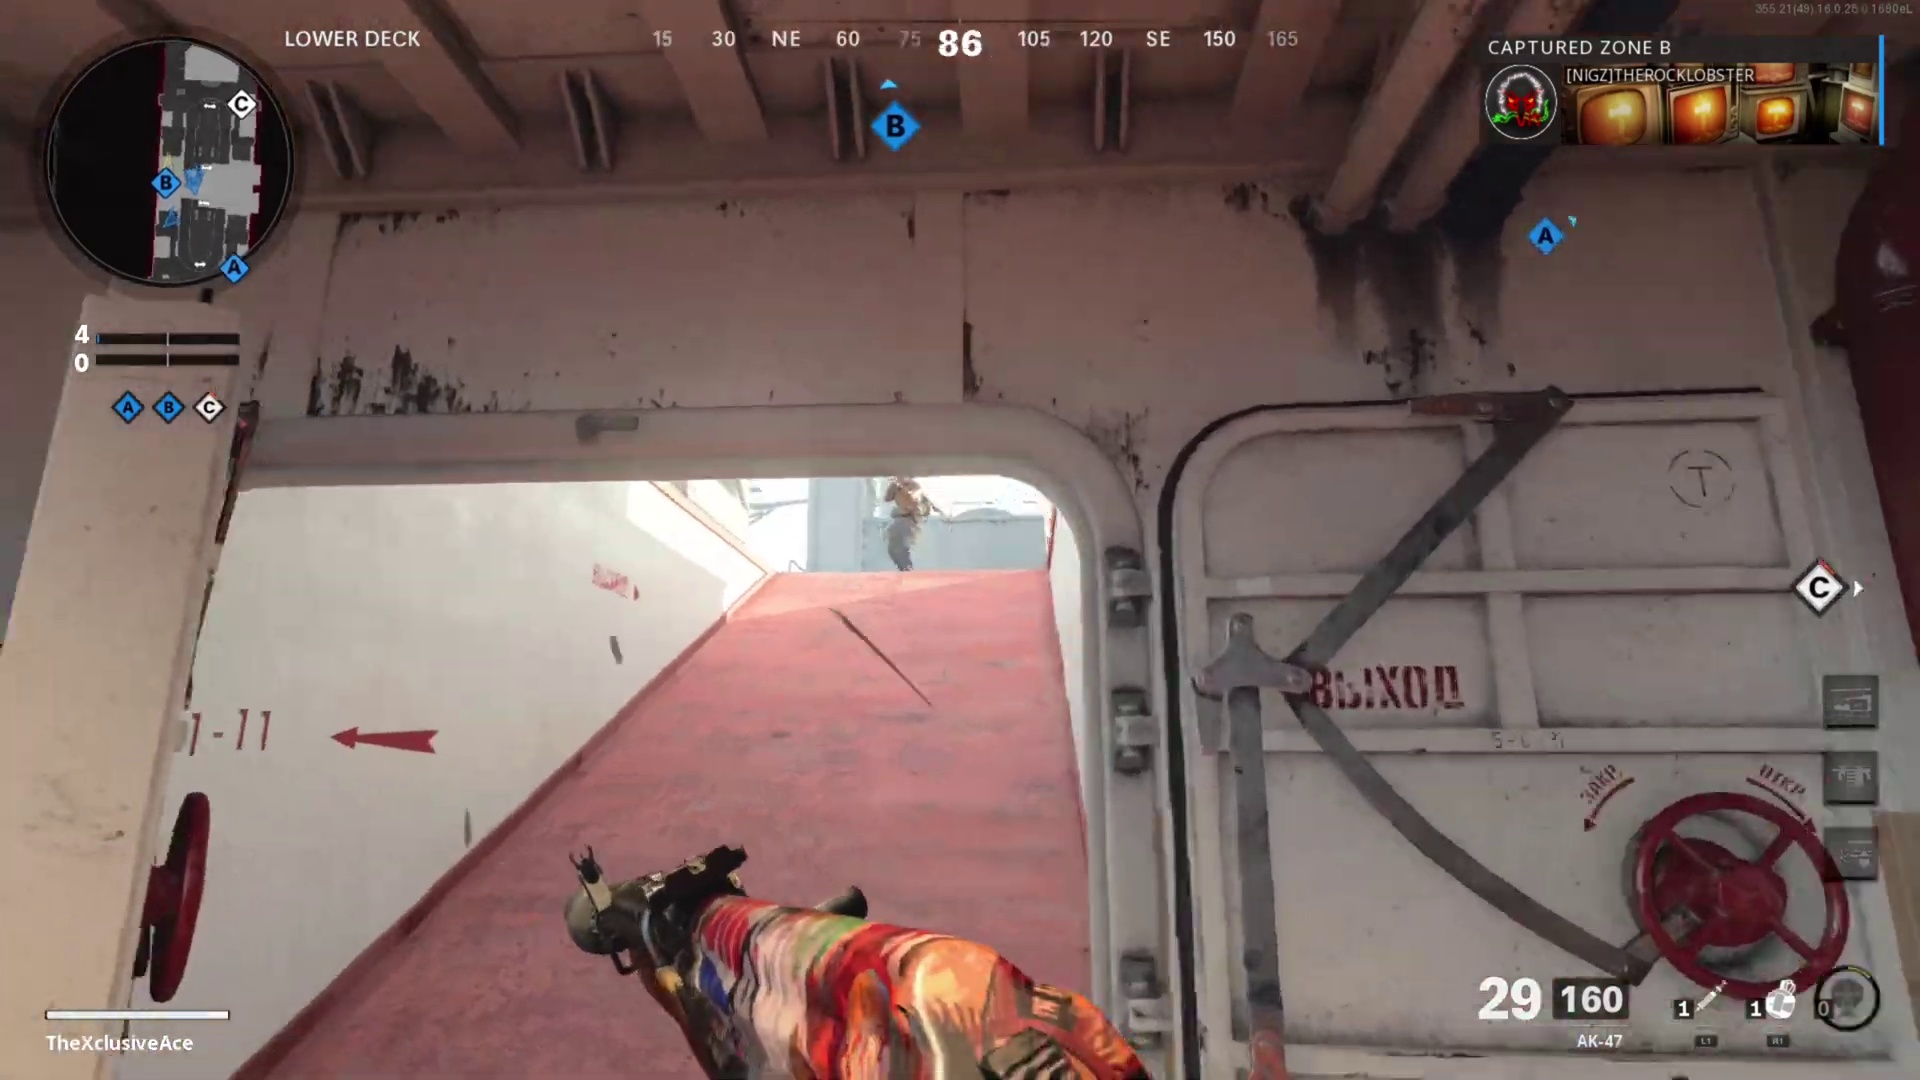person: (874, 474, 927, 571)
